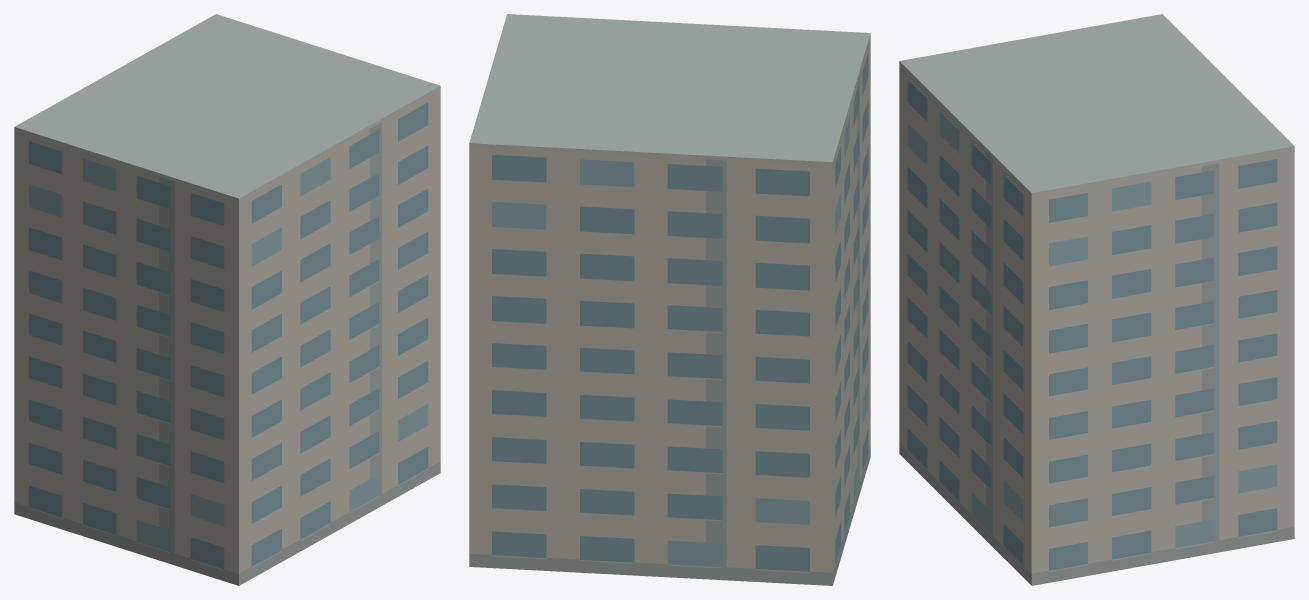
File: residential-e850c940-d02c-489e-be01-ec4a6ab4a27e.glb
The picture shows the model from 3 angles, left to right: view 1: azimuth 30°, elevation 25°; view 2: azimuth 150°, elevation 25°; view 3: azimuth 270°, elevation 25°; orthographic projection. The views are drawn at different scales.
Visible parts, largest first — view 1: residential-e850c940-d02c-489e-be01-ec4a6ab4a27e.tmp; view 2: residential-e850c940-d02c-489e-be01-ec4a6ab4a27e.tmp; view 3: residential-e850c940-d02c-489e-be01-ec4a6ab4a27e.tmp.
Boxes of the visible parts, x1=… form: residential-e850c940-d02c-489e-be01-ec4a6ab4a27e.tmp: x1=14, y1=14, x2=440, y2=585; residential-e850c940-d02c-489e-be01-ec4a6ab4a27e.tmp: x1=469, y1=14, x2=870, y2=585; residential-e850c940-d02c-489e-be01-ec4a6ab4a27e.tmp: x1=899, y1=14, x2=1294, y2=585.
Size of the model in its own units: 26.42 by 27 by 24.63.
